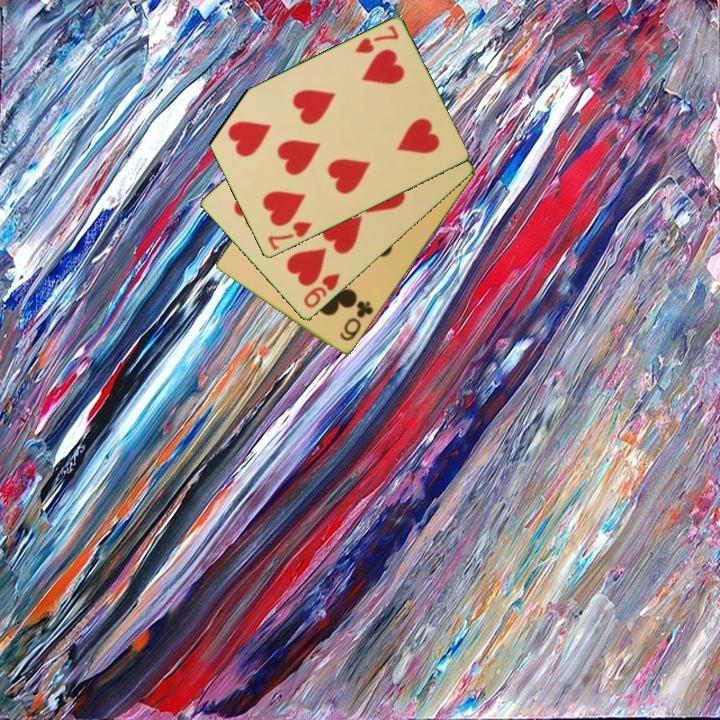6c: (336, 297, 377, 344)
7h: (264, 218, 315, 254), (351, 22, 402, 57)
9h: (300, 270, 343, 311)
